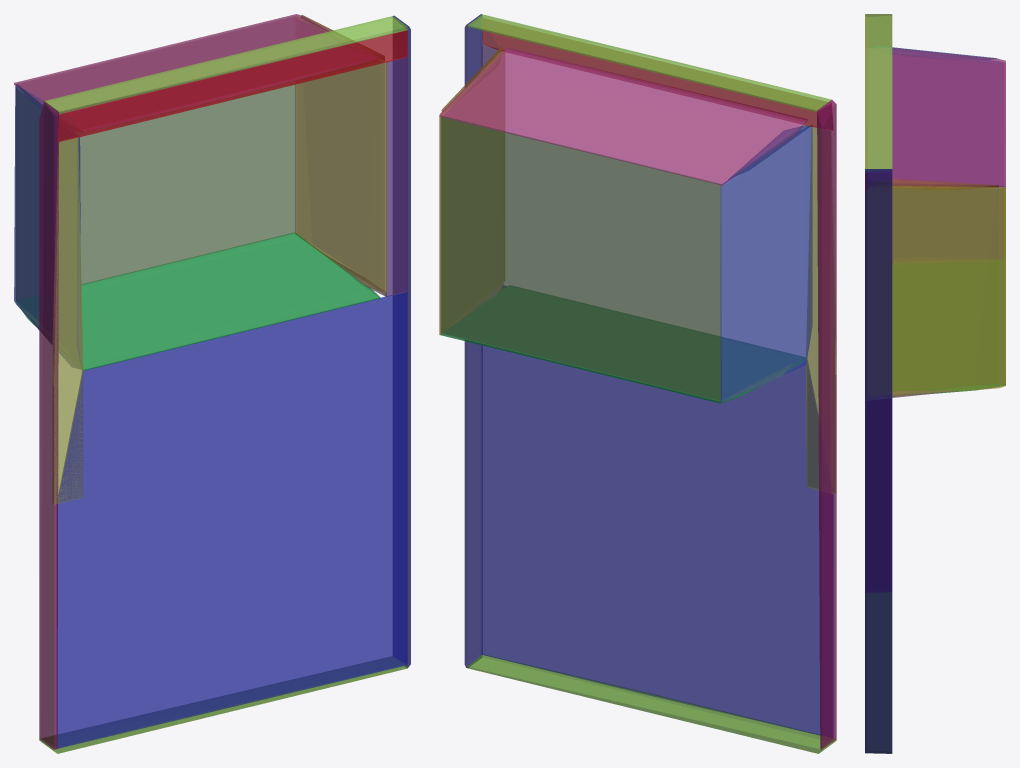
File: SinkAreaSink.obj
3 renders of one model, left to right at view 1: azimuth 30°, elevation 25°; view 2: azimuth 150°, elevation 25°; view 3: azimuth 270°, elevation 25°, orthographic. The views are drawn at different scales.
Visible parts, largest first — view 1: Shape_IndexedFaceSet.009_Shape_IndexedFaceSet.037; view 2: Shape_IndexedFaceSet.009_Shape_IndexedFaceSet.037; view 3: Shape_IndexedFaceSet.009_Shape_IndexedFaceSet.037.
Boxes of the visible parts, x1,y1,x2,y2 form: Shape_IndexedFaceSet.009_Shape_IndexedFaceSet.037: (14, 14, 410, 753); Shape_IndexedFaceSet.009_Shape_IndexedFaceSet.037: (439, 14, 836, 753); Shape_IndexedFaceSet.009_Shape_IndexedFaceSet.037: (865, 14, 1005, 753).
Bounding box in the file's own units: 0.5015 × 0.8623 × 0.1883.
